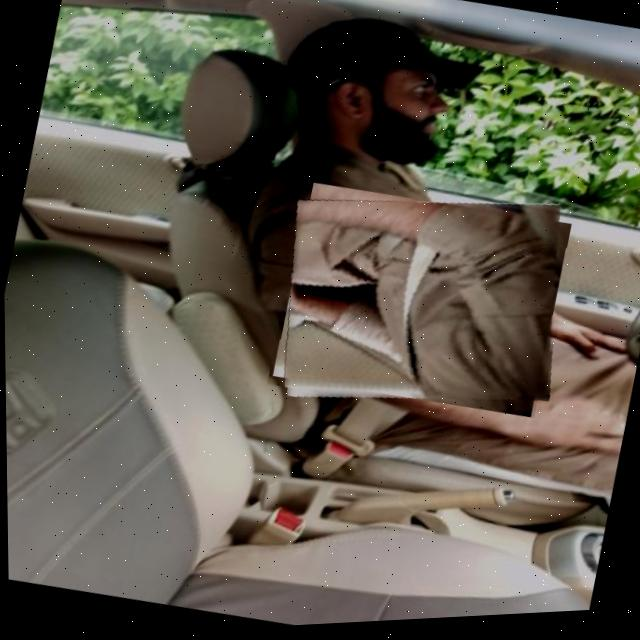seatbelt: (262, 162, 580, 443)
